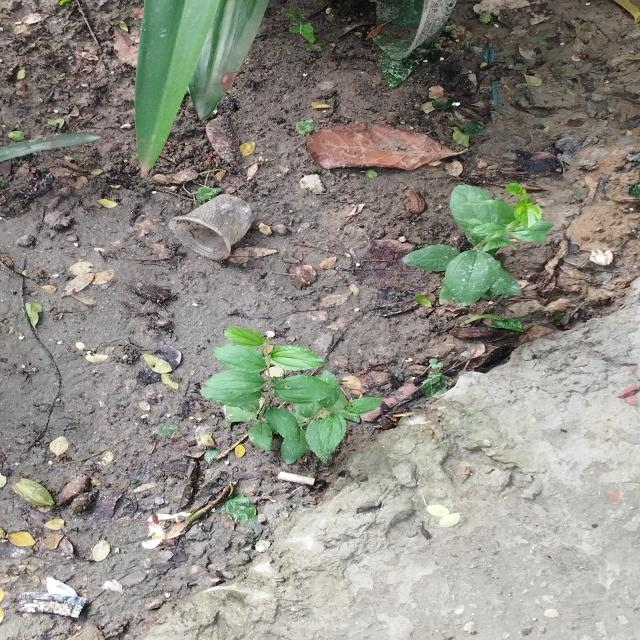plastic: (168, 194, 255, 260)
